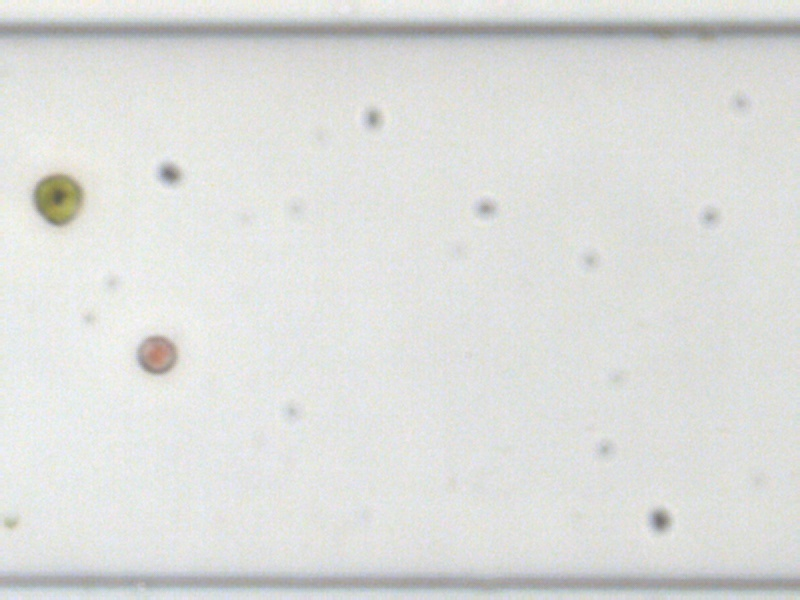Chlorella: (0, 509, 21, 529)
Platymonas: (31, 171, 85, 230)
Porphyridium: (136, 335, 177, 372)
